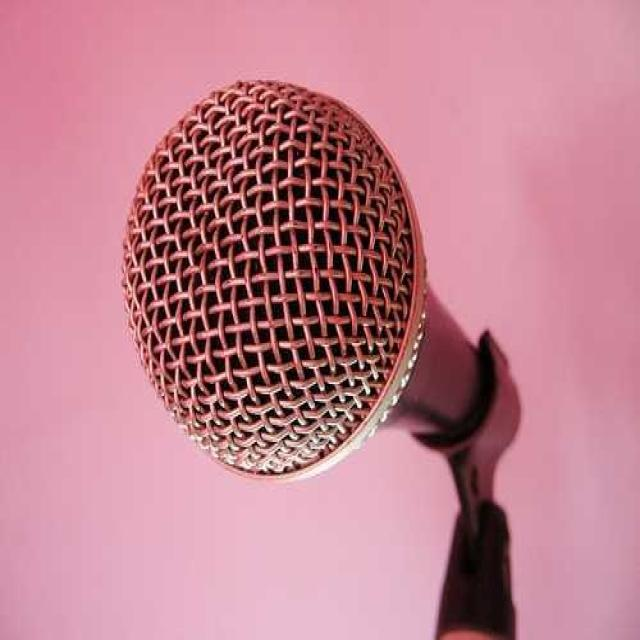microphone: (121, 83, 420, 475)
